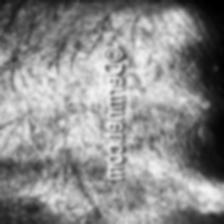Toxin: (199, 117, 224, 158)
